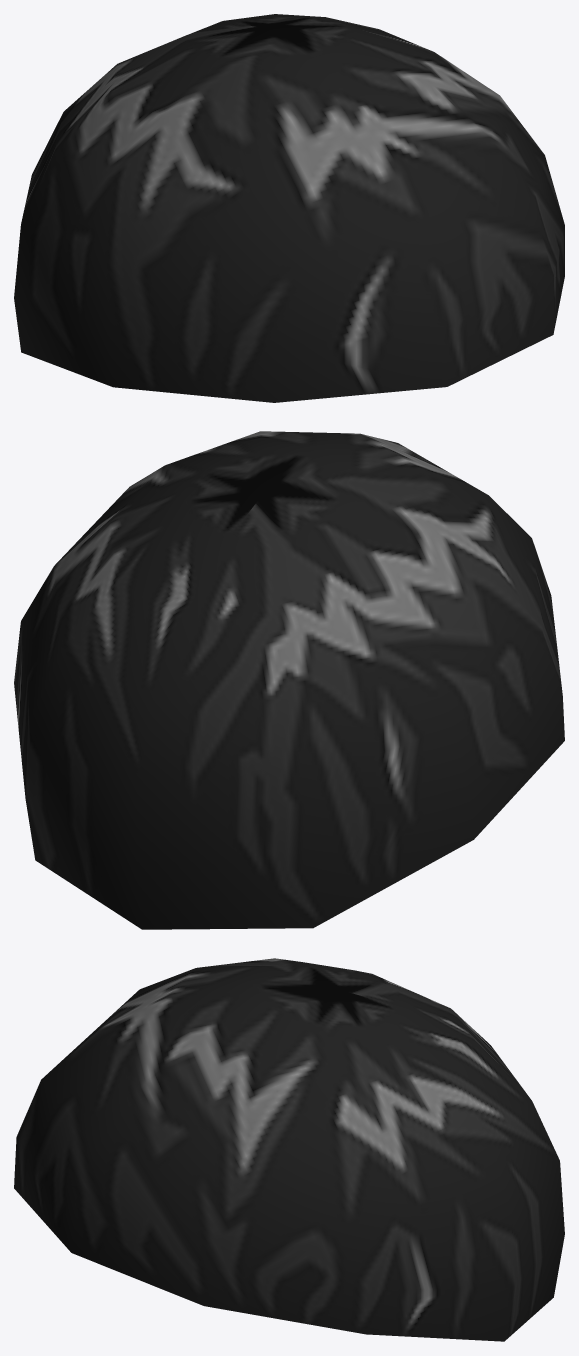
The model's file is mod_char_hero_milo_hat.fbx.
The picture shows the model from 3 angles, top to bottom: view 1: azimuth 30°, elevation 25°; view 2: azimuth 150°, elevation 25°; view 3: azimuth 270°, elevation 25°; orthographic projection. The views are drawn at different scales.
Visible parts, largest first — view 1: mod_char_hero_milo_hat; view 2: mod_char_hero_milo_hat; view 3: mod_char_hero_milo_hat.
Boxes of the visible parts, box(x1,y1,x2,y2) form: mod_char_hero_milo_hat: box(14, 14, 564, 402); mod_char_hero_milo_hat: box(14, 431, 564, 929); mod_char_hero_milo_hat: box(14, 958, 564, 1341).
Size of the model in its own units: 32.03 by 23.75 by 37.76.
